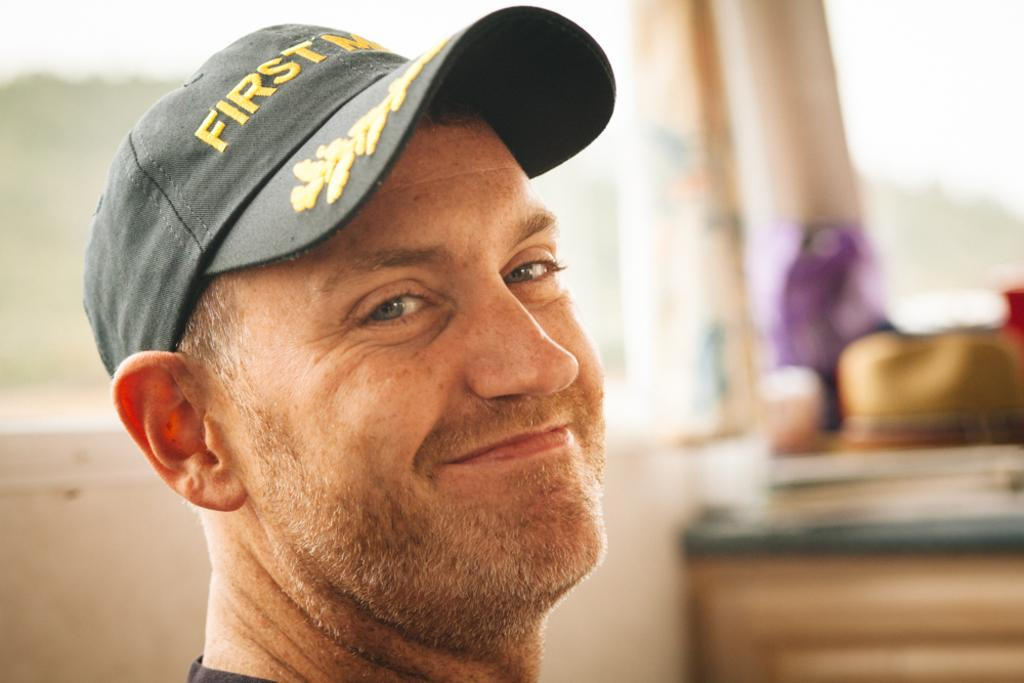Hat: (80, 3, 618, 377)
